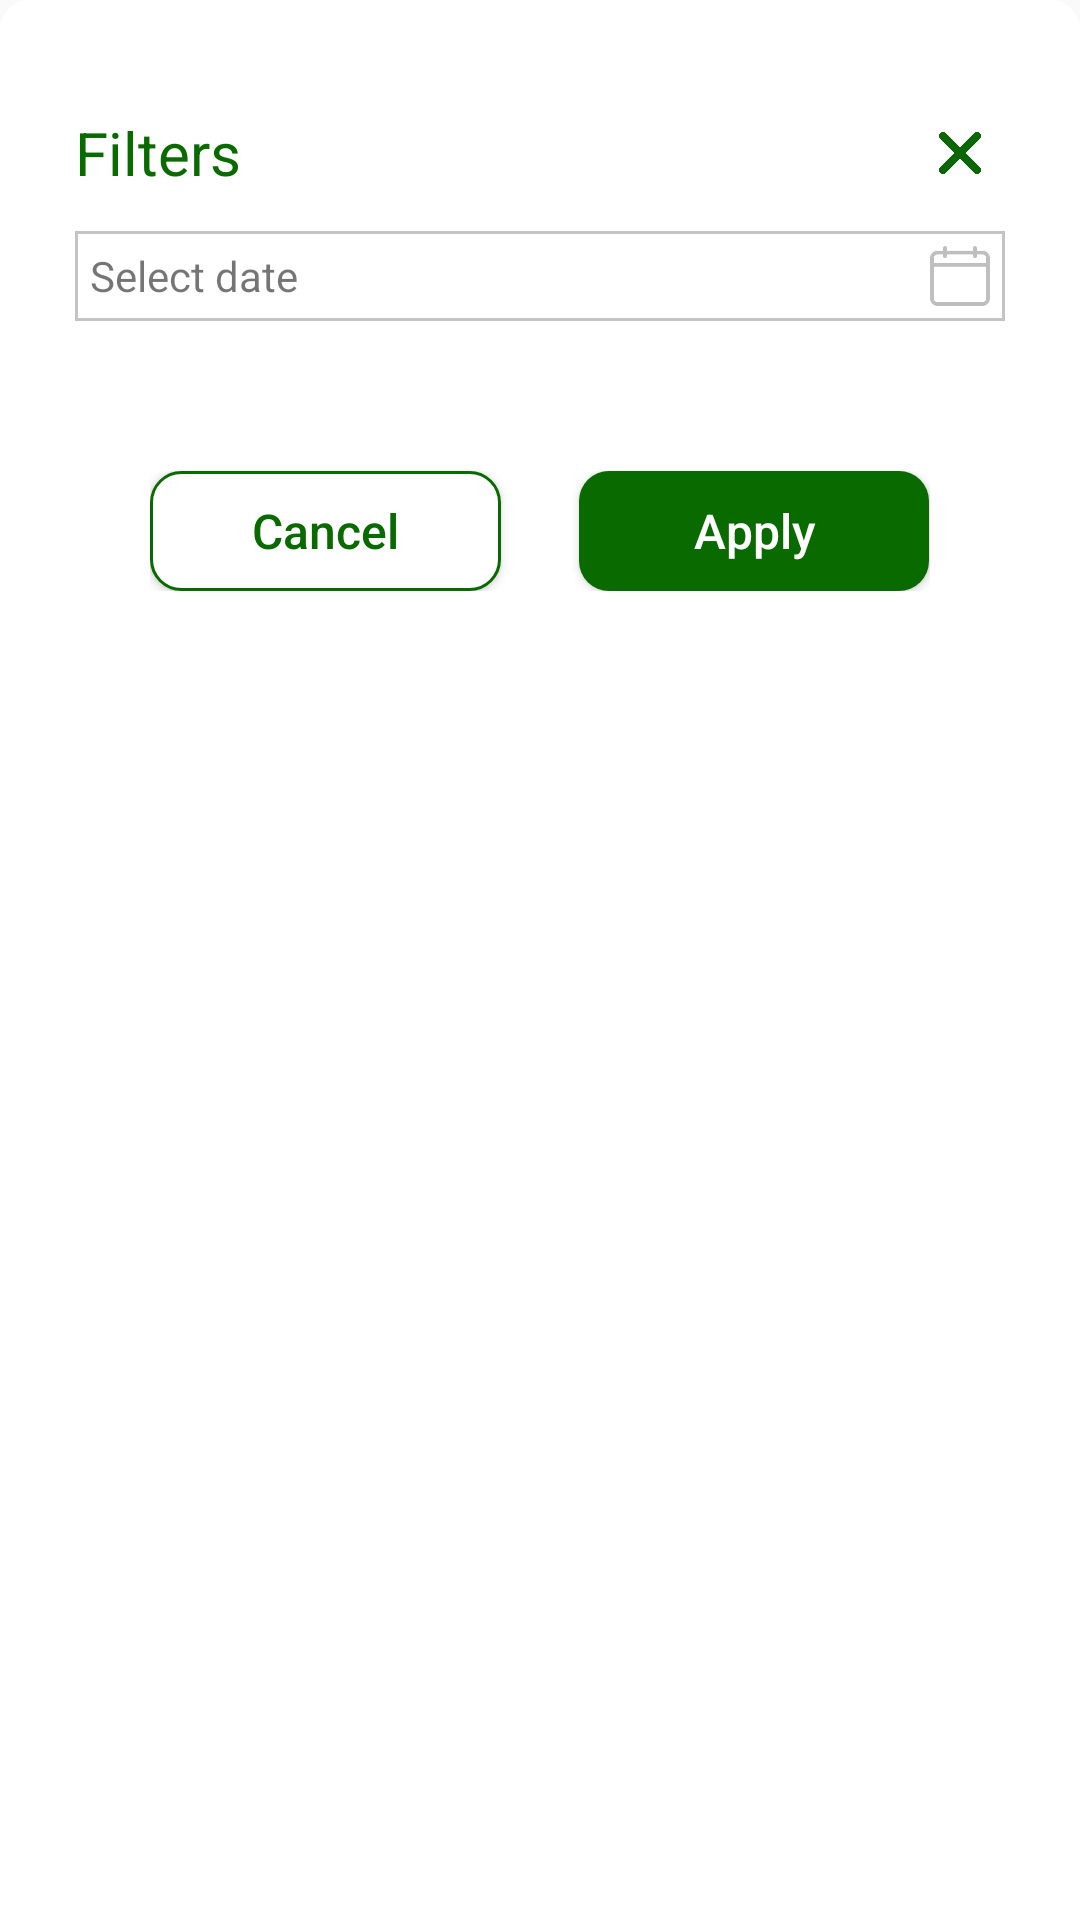

Screen size 1080w x 1920h. Icon name, then its box in pixels as (x1, y1, x2, y2):
calendar: (930, 246, 990, 306)
cross: (939, 132, 981, 174)
